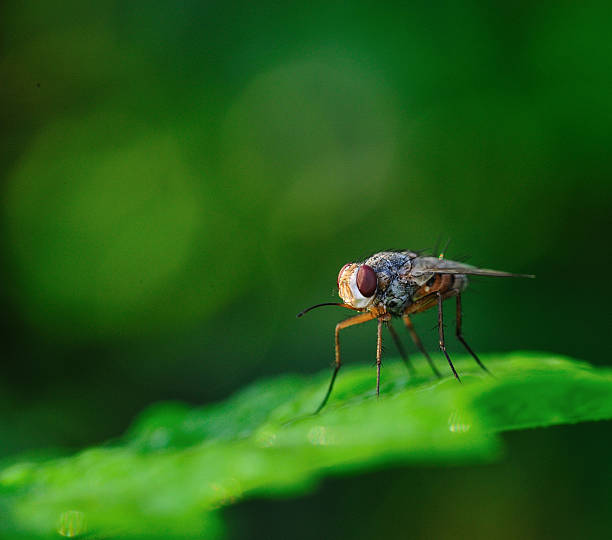Fruit fly: (315, 245, 525, 407)
